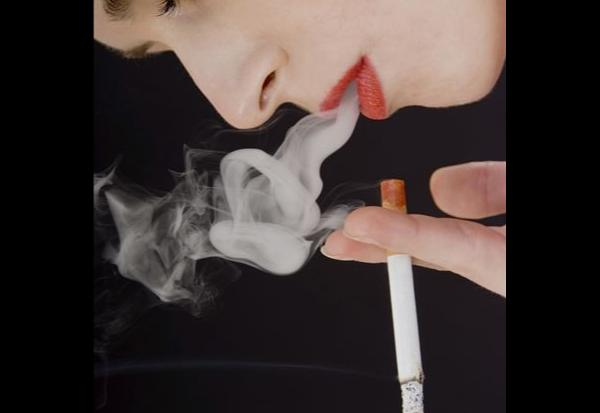Cigarette: (379, 177, 427, 413)
Smoke: (106, 87, 360, 296)
